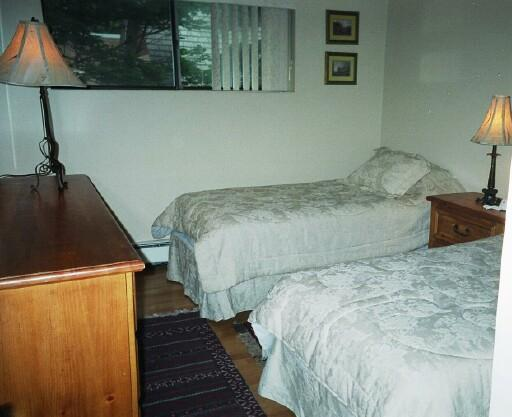Armario: (5, 173, 146, 414)
Cama: (257, 233, 498, 404), (161, 157, 440, 278)
